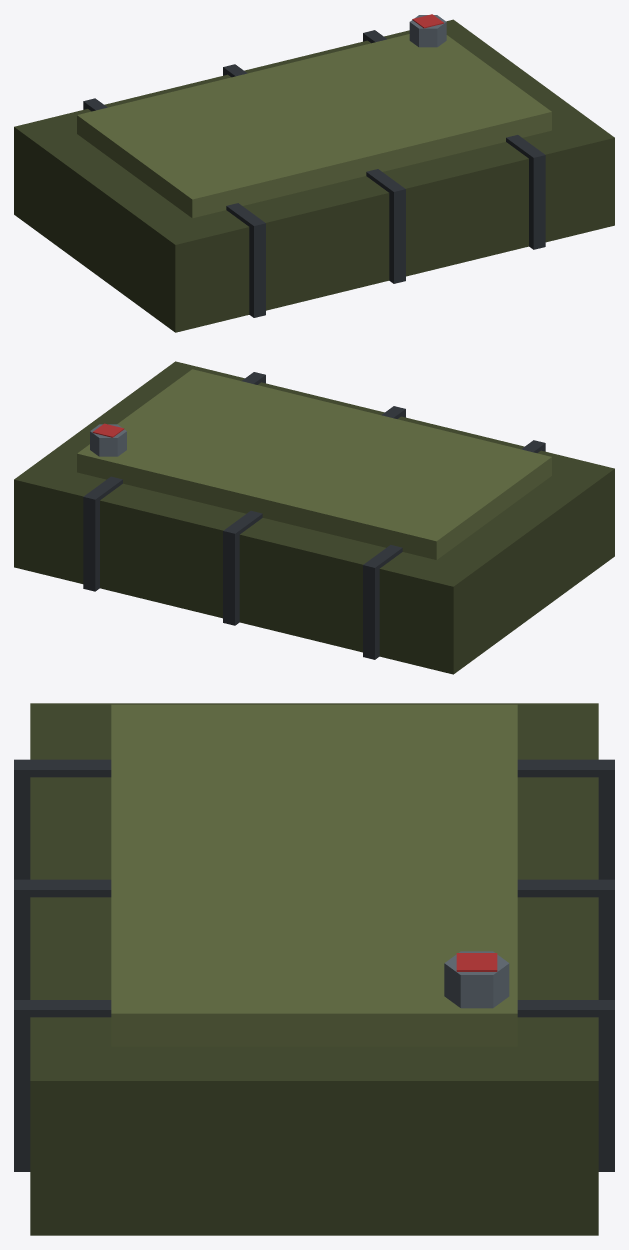
Rendered from prop_fuel_bladder.fbx.
3 views of the same model, one above another, from view 1: azimuth 30°, elevation 25°; view 2: azimuth 150°, elevation 25°; view 3: azimuth 270°, elevation 25° (orthographic). The views are drawn at different scales.
Visible parts, largest first — view 1: prop_fuel_bladder; view 2: prop_fuel_bladder; view 3: prop_fuel_bladder.
Boxes of the visible parts, left/top/right/bottom form: prop_fuel_bladder: left=14, top=14, right=614, bottom=332; prop_fuel_bladder: left=14, top=361, right=614, bottom=674; prop_fuel_bladder: left=14, top=703, right=614, bottom=1235.
Bounding box in the file's own units: 1100 × 303 × 740.
